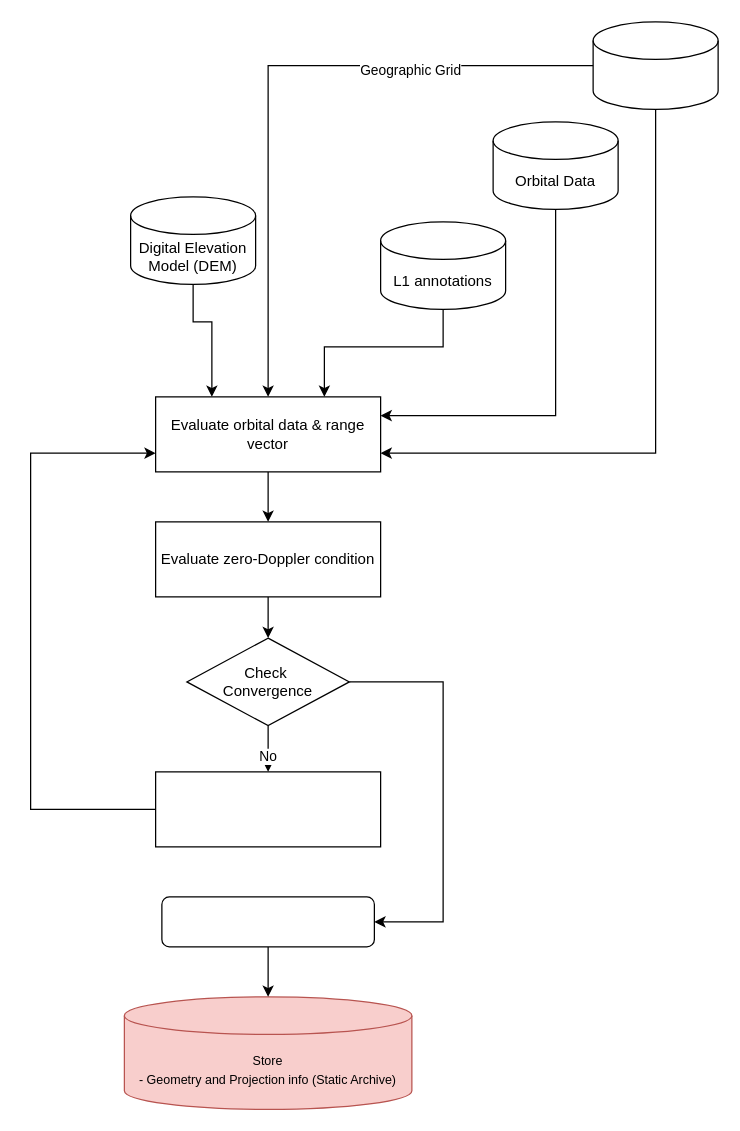
This 740x1131 diagram has some shape labels left out. The centre of each missing label's shape, as x and y in pixels:
"Geo2Radar Association Matrix" goes at point 267,921.
"Parameters configuration file" goes at point 655,65.
"Update observation time" goes at point 267,809.
